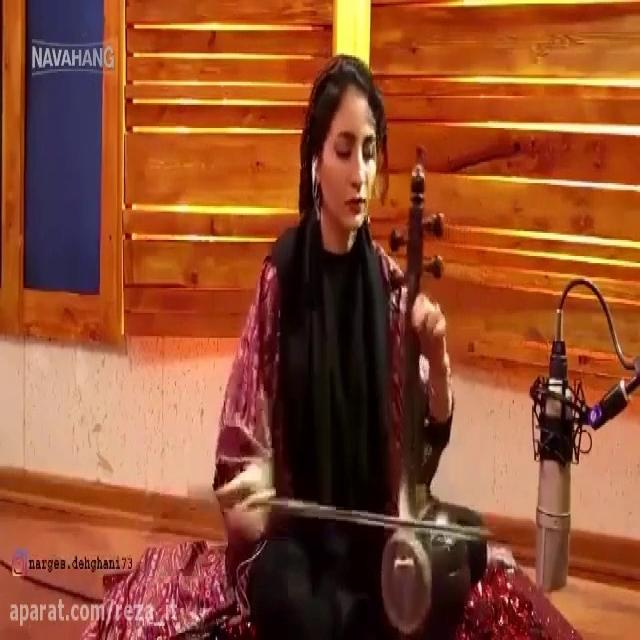Kamanche: (371, 150, 483, 640)
